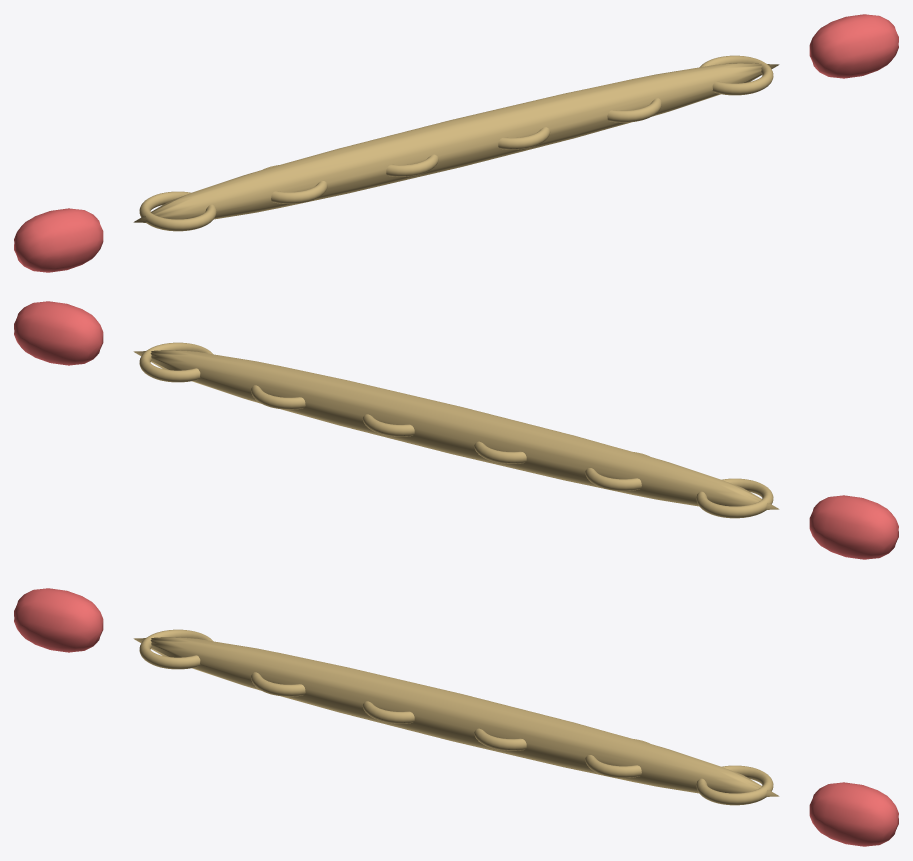
Rendered from tug_rope.glb.
3 renders of one model, top to bottom at view 1: azimuth 30°, elevation 25°; view 2: azimuth 150°, elevation 25°; view 3: azimuth 330°, elevation 25°, orthographic.
Visible parts, largest first — view 1: tug_rope; view 2: tug_rope; view 3: tug_rope.
Part boxes in pixels (x1,y1,x2,y2): tug_rope: (14,14,898,272); tug_rope: (14,301,898,559); tug_rope: (14,588,898,846).
Size of the model in its own units: 1.11 by 0.0679 by 0.0842.
